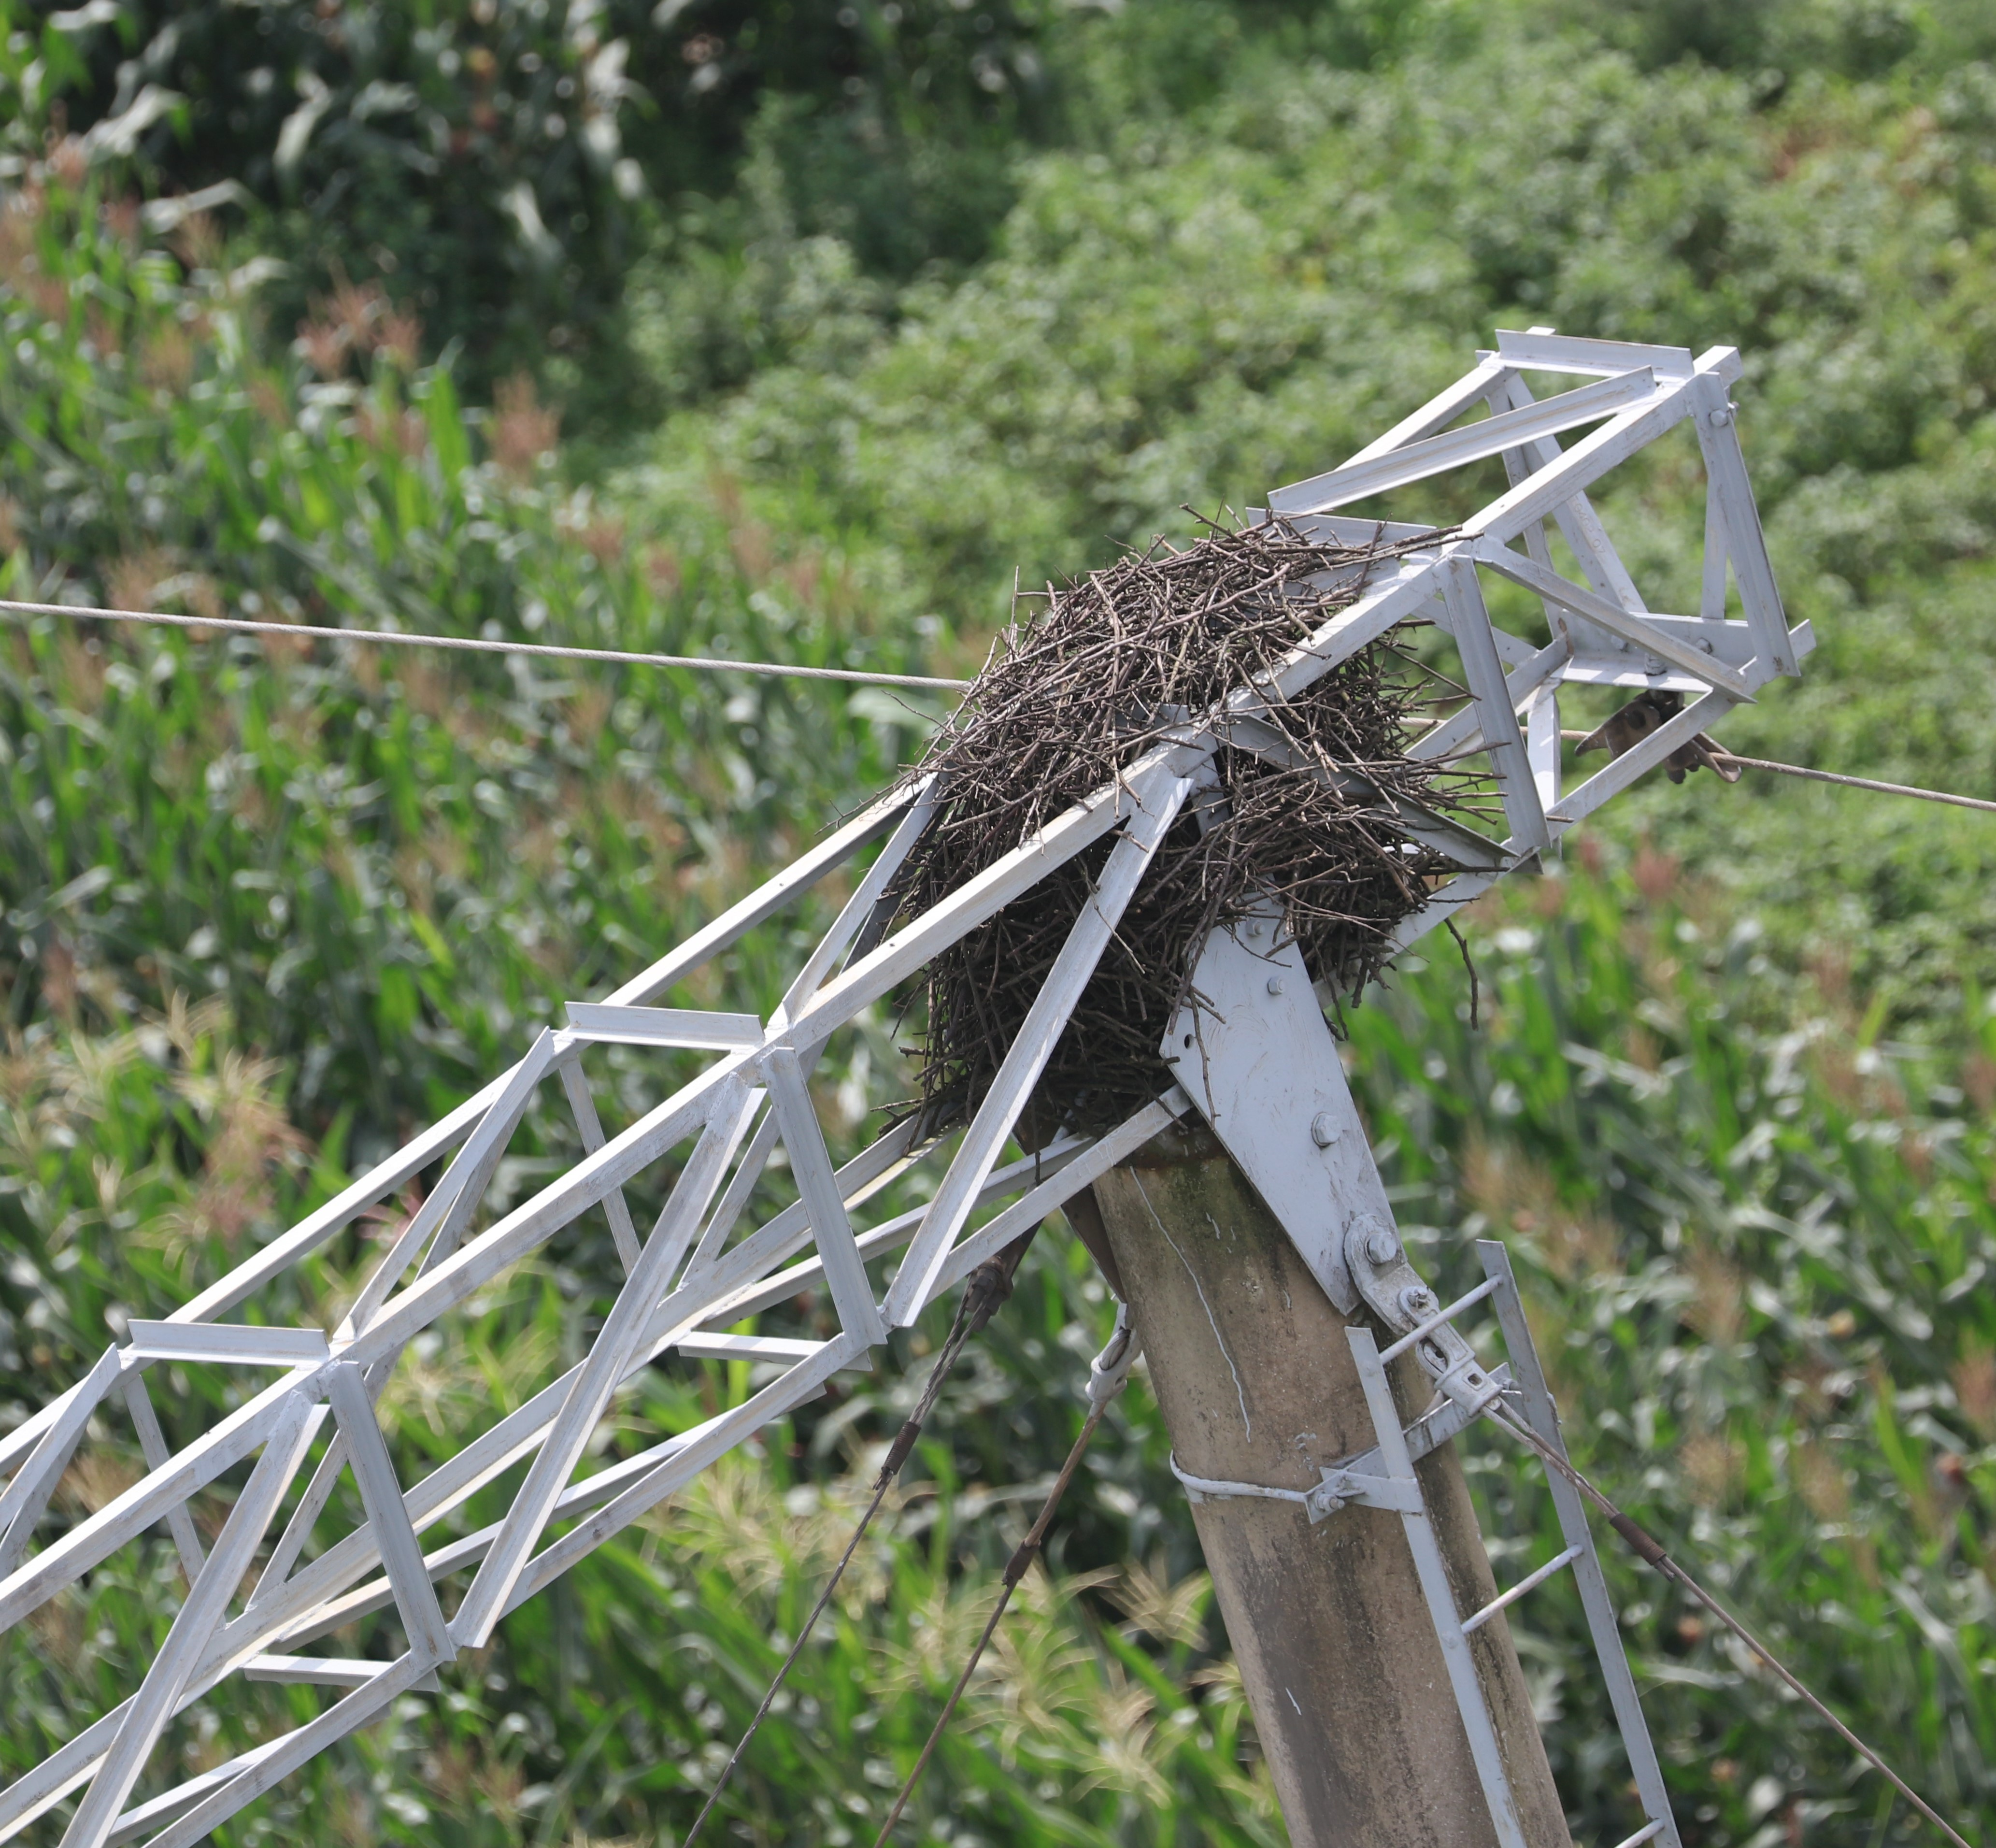niaowo: (843, 508, 1481, 1182)
